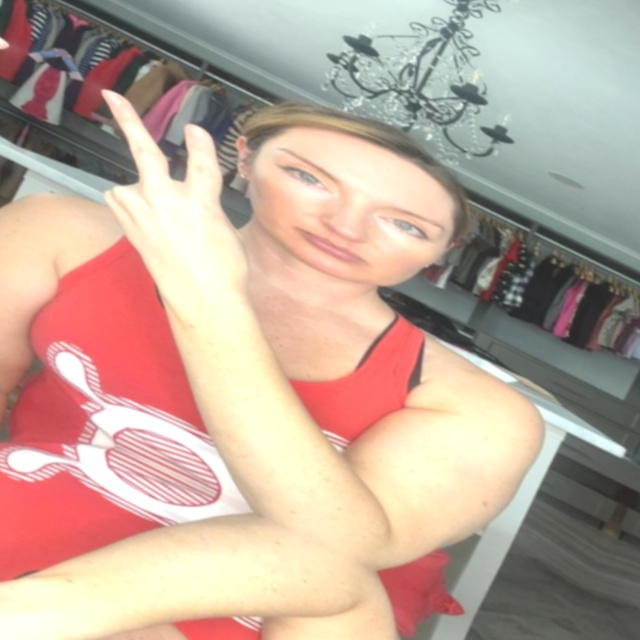Scissors: (0, 0, 16, 167)
